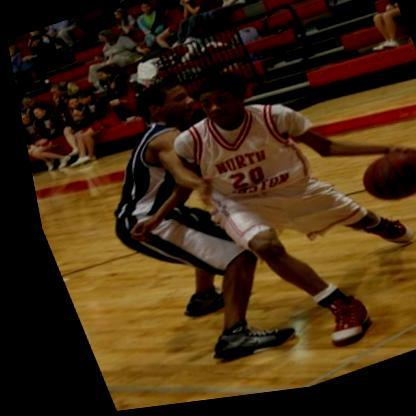basketball: (342, 149, 416, 218)
